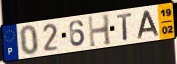0: (17, 24, 40, 56)
2: (42, 22, 59, 53)
6: (68, 20, 87, 48)
A: (136, 10, 161, 40)
H: (86, 13, 113, 49)
T: (116, 12, 134, 42)
